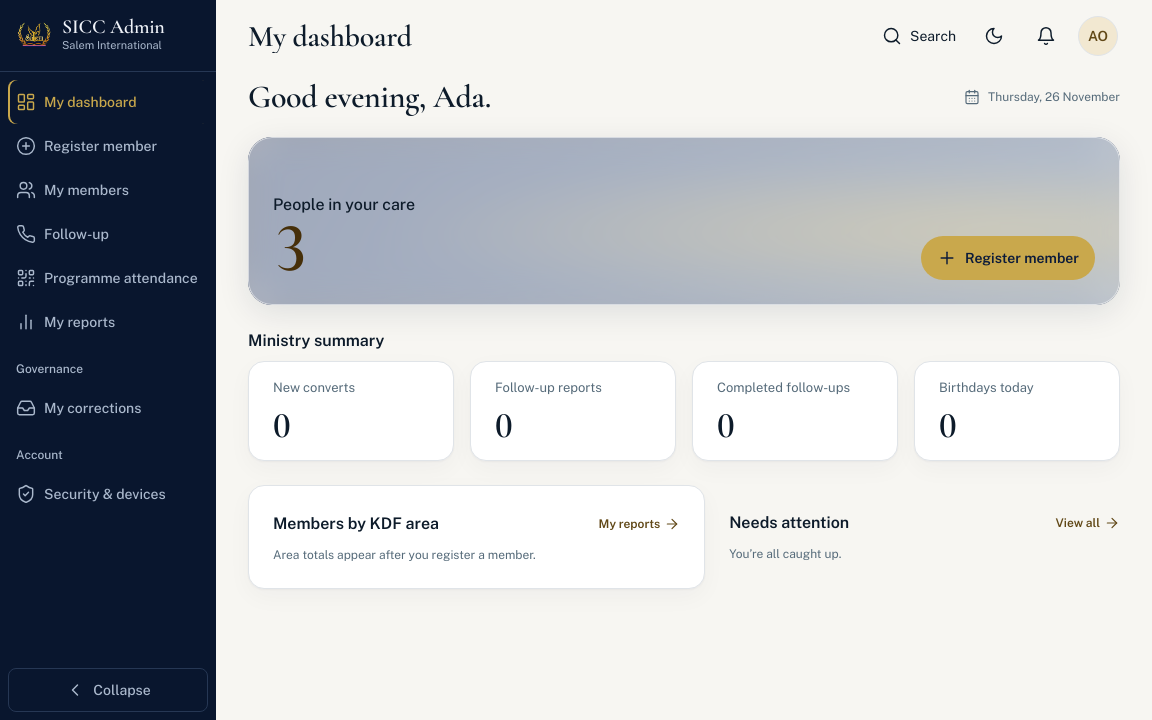
Test case: app installation › skips the install offer when SICC Admin opens as an installed app
Click the button with aria-label "Account menu".
click(1098, 36)  # box [1076,14,1120,58]
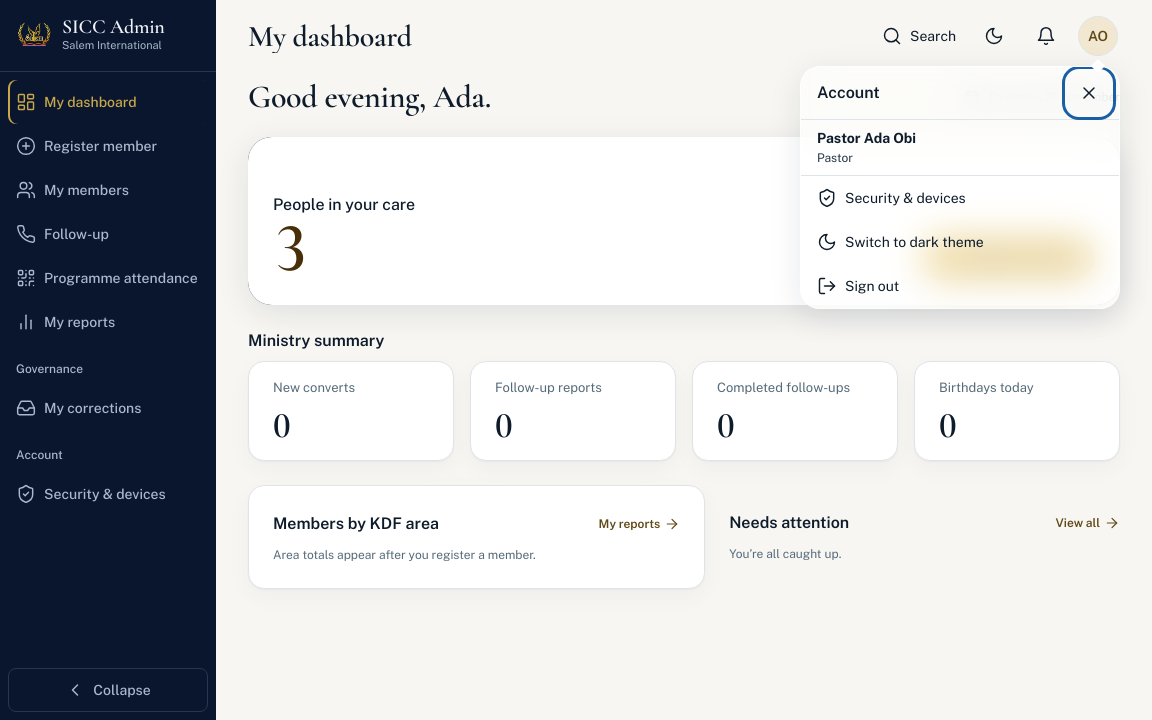
Result: the dialog "Account" is shown at [800,66,1120,309]
